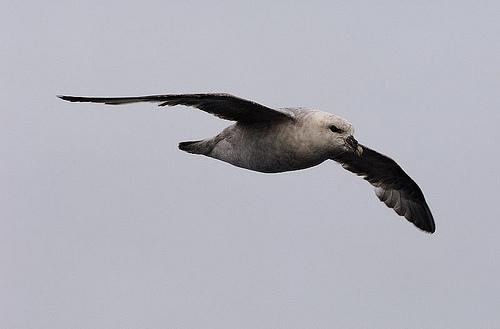bird: (53, 88, 437, 234)
